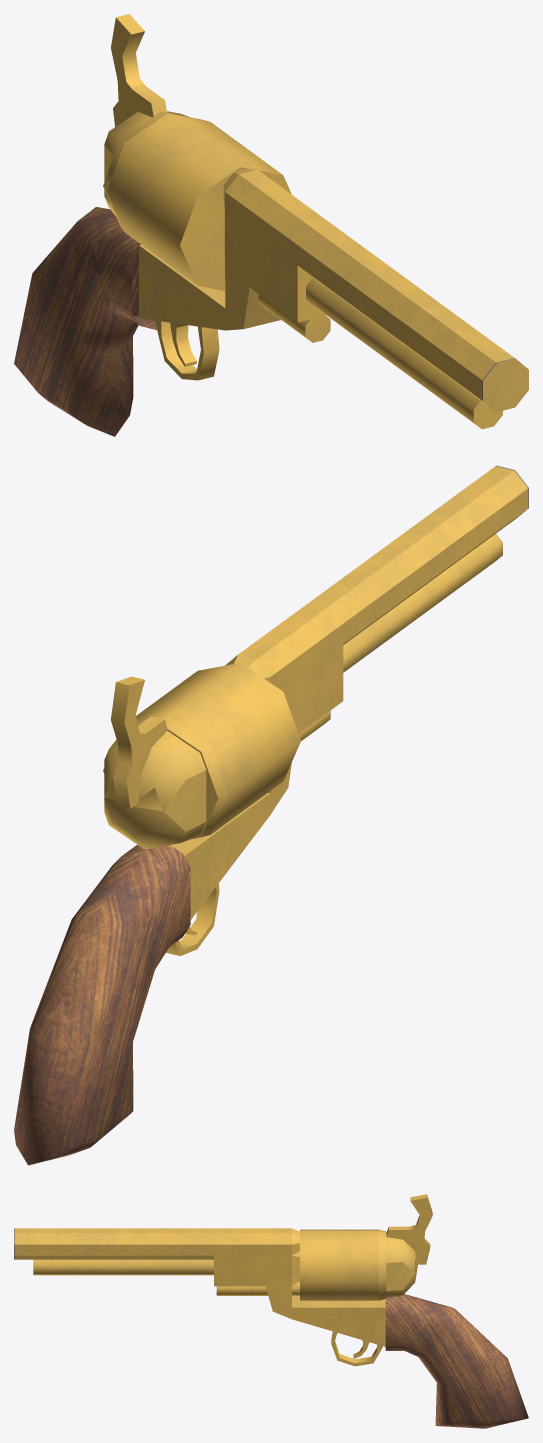
The model's file is 1218特制柯尔特.FBX.
3 renders of one model, top to bottom at view 1: azimuth 30°, elevation 25°; view 2: azimuth 150°, elevation 25°; view 3: azimuth 270°, elevation 25°, orthographic. The views are drawn at different scales.
Visible parts, largest first — view 1: 1218_ColtGoldenRevolver; view 2: 1218_ColtGoldenRevolver; view 3: 1218_ColtGoldenRevolver.
Part boxes in pixels (x1=…): 1218_ColtGoldenRevolver: x1=14, y1=14, x2=528, y2=436; 1218_ColtGoldenRevolver: x1=14, y1=465, x2=528, y2=1165; 1218_ColtGoldenRevolver: x1=14, y1=1194, x2=528, y2=1428.
Size of the model in its own units: 6.59 by 22.45 by 44.99.
Materials: 1 (1 with a texture image).
